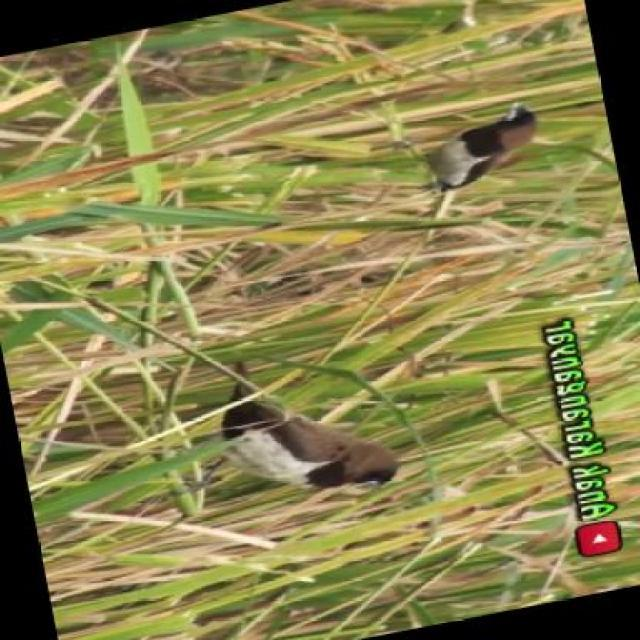Bird: (209, 349, 412, 522), (403, 89, 570, 246)
